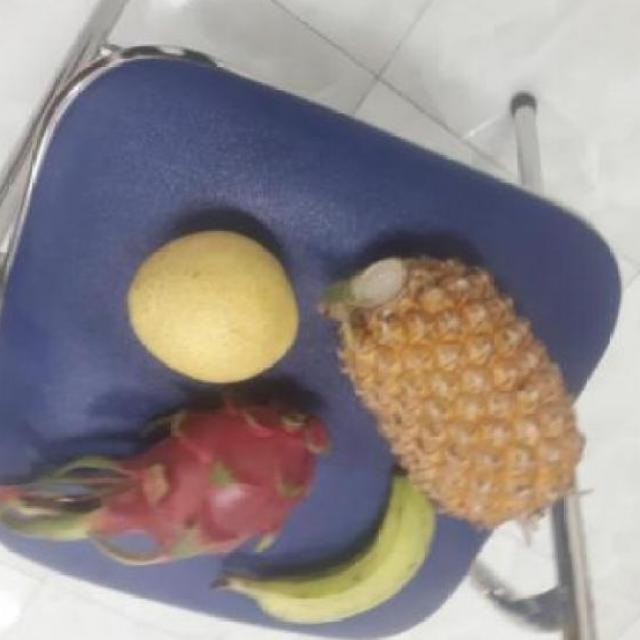banana: (242, 468, 440, 622)
dragon fruit: (105, 376, 337, 556)
pear: (140, 226, 300, 388)
pineapple: (330, 252, 584, 522)
